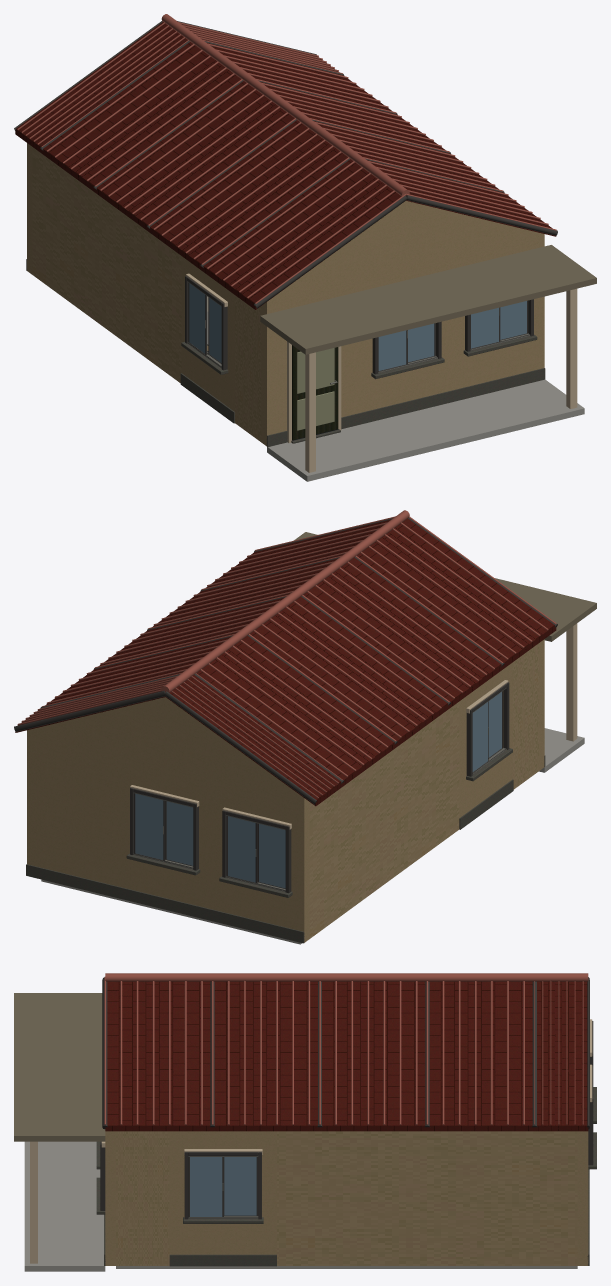
The model's file is MS_HV_01_PorchBungalow.glb.
The picture shows the model from 3 angles, top to bottom: view 1: azimuth 30°, elevation 25°; view 2: azimuth 150°, elevation 25°; view 3: azimuth 270°, elevation 25°; orthographic projection.
Visible parts, largest first — view 1: StaticBatch32, StaticBatch2, StaticBatch23, StaticBatch24, StaticBatch8, StaticBatch42, Plaster_005, StaticBatch6, StaticBatch3, StaticBatch33, RaisedPanel, Leaf_001 (+9 smaller); view 2: StaticBatch32, StaticBatch2, StaticBatch23, StaticBatch42, StaticBatch6, StaticBatch3, StaticBatch24, Glass_0013, Glass_0014, Glass3, Glass4, StaticBatch33 (+10 smaller); view 3: StaticBatch32, StaticBatch2, StaticBatch23, StaticBatch24, StaticBatch8, StaticBatch6, StaticBatch3, Glass_0016, Glass6, StaticBatch5, Frame6, StaticBatch33 (+2 smaller).
Boxes of the visible parts, bbox=[...] form: StaticBatch32: bbox=[15, 22, 556, 309]; StaticBatch2: bbox=[27, 143, 544, 442]; StaticBatch23: bbox=[17, 14, 556, 303]; StaticBatch24: bbox=[260, 245, 596, 354]; StaticBatch8: bbox=[267, 379, 584, 481]; StaticBatch42: bbox=[268, 201, 543, 301]; Plaster_005: bbox=[261, 279, 359, 446]; StaticBatch6: bbox=[14, 21, 557, 308]; StaticBatch3: bbox=[26, 259, 545, 424]; StaticBatch33: bbox=[305, 288, 577, 472]; RaisedPanel: bbox=[297, 348, 334, 430]; Leaf_001: bbox=[292, 345, 338, 439]; StaticBatch32: bbox=[15, 518, 556, 806]; StaticBatch2: bbox=[27, 643, 539, 942]; StaticBatch23: bbox=[17, 510, 556, 798]; StaticBatch42: bbox=[28, 697, 303, 797]; StaticBatch6: bbox=[14, 518, 557, 804]; StaticBatch3: bbox=[118, 748, 513, 943]; StaticBatch24: bbox=[294, 532, 596, 641]; Glass_0013: bbox=[135, 793, 163, 859]; Glass_0014: bbox=[228, 816, 255, 882]; Glass3: bbox=[166, 801, 193, 865]; Glass4: bbox=[259, 824, 285, 888]; StaticBatch33: bbox=[566, 623, 577, 741]; StaticBatch32: bbox=[105, 981, 588, 1131]; StaticBatch2: bbox=[105, 1131, 588, 1265]; StaticBatch23: bbox=[104, 973, 588, 1125]; StaticBatch24: bbox=[14, 993, 105, 1141]; StaticBatch8: bbox=[24, 1141, 105, 1271]; StaticBatch6: bbox=[102, 977, 589, 1129]; StaticBatch3: bbox=[96, 1087, 596, 1266]; Glass_0016: bbox=[190, 1157, 222, 1216]; Glass6: bbox=[224, 1157, 256, 1215]; StaticBatch5: bbox=[116, 1266, 577, 1268]; Frame6: bbox=[184, 1152, 261, 1219]; StaticBatch33: bbox=[30, 1141, 37, 1263].
Size of the model in its own units: 6.55 by 4.77 by 10.86.
Materials: 23 (6 with a texture image).
